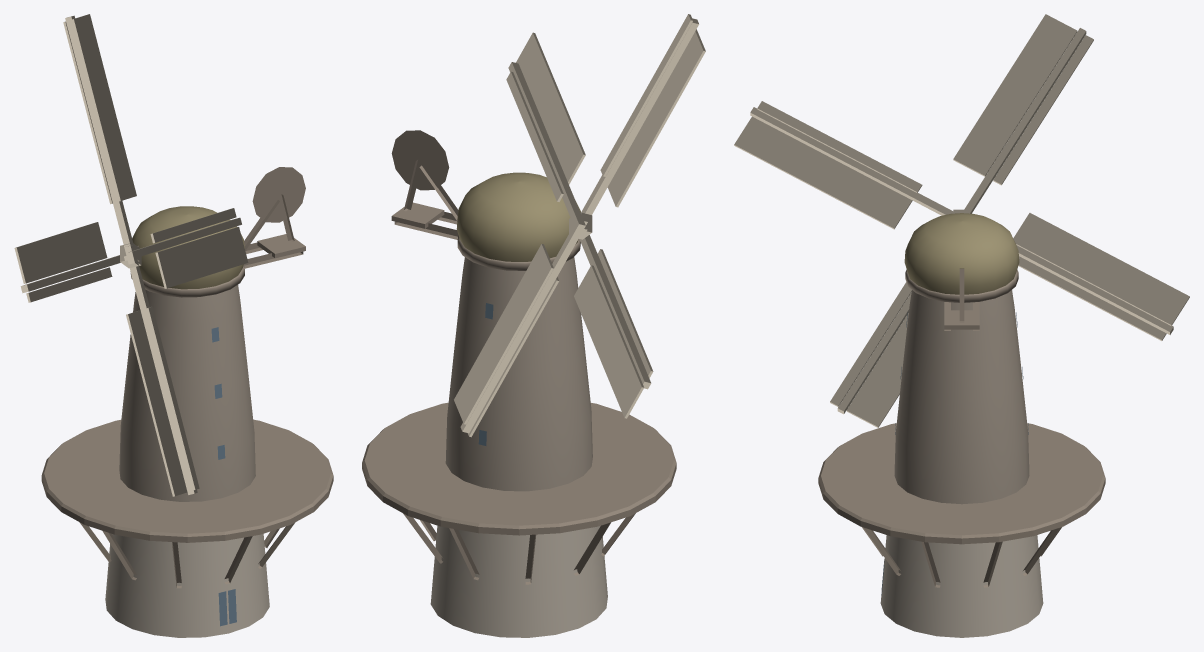
Rendered from detail.glb.
The picture shows the model from 3 angles, left to right: view 1: azimuth 30°, elevation 25°; view 2: azimuth 150°, elevation 25°; view 3: azimuth 270°, elevation 25°; orthographic projection. The views are drawn at different scales.
Visible parts, largest first — view 1: dutch-windmill; view 2: dutch-windmill; view 3: dutch-windmill.
Part boxes in pixels (x1,y1,x2,y2): dutch-windmill: (14, 14, 333, 637); dutch-windmill: (362, 14, 705, 637); dutch-windmill: (734, 14, 1189, 637).
Bounding box in the file's own units: 18 × 38.89 × 28.58.
